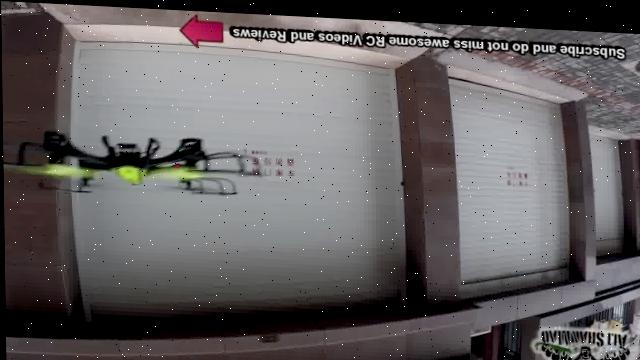drone: (2, 125, 262, 204)
